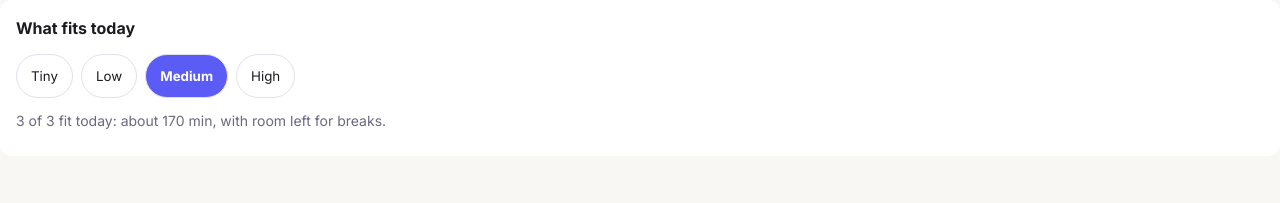
Test: DayPlanCard › moves what does not fit to a neutral Later list when energy drops
Expected: the text "no rush" is not shown
What coordinates should you click on to do the following:
click the button "Low"
I would click on:
 (109, 76)
Its box is [81, 54, 137, 98].
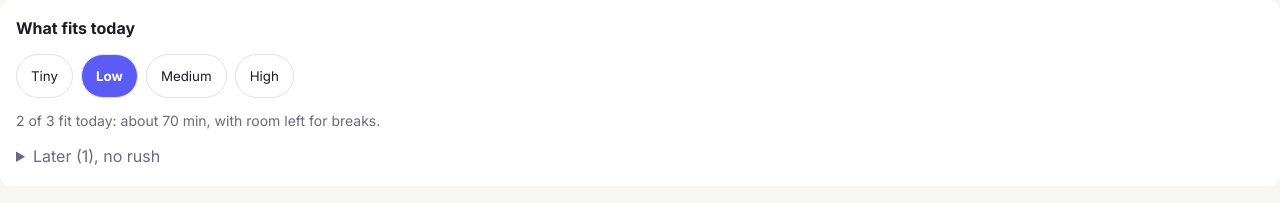
Expected: the heading "Later (1), no rush" is shown, [33, 146, 160, 166]
